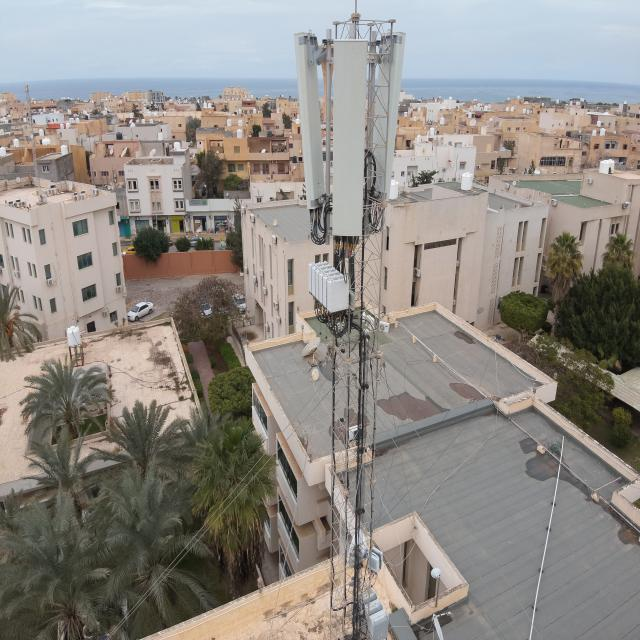antenna: (324, 32, 374, 240), (366, 22, 416, 214), (288, 22, 330, 211)
lighnig-rad: (352, 0, 358, 22)
microware-dish: (341, 520, 386, 576)
power-box: (344, 582, 395, 640)
radio-unit: (304, 249, 356, 319)
